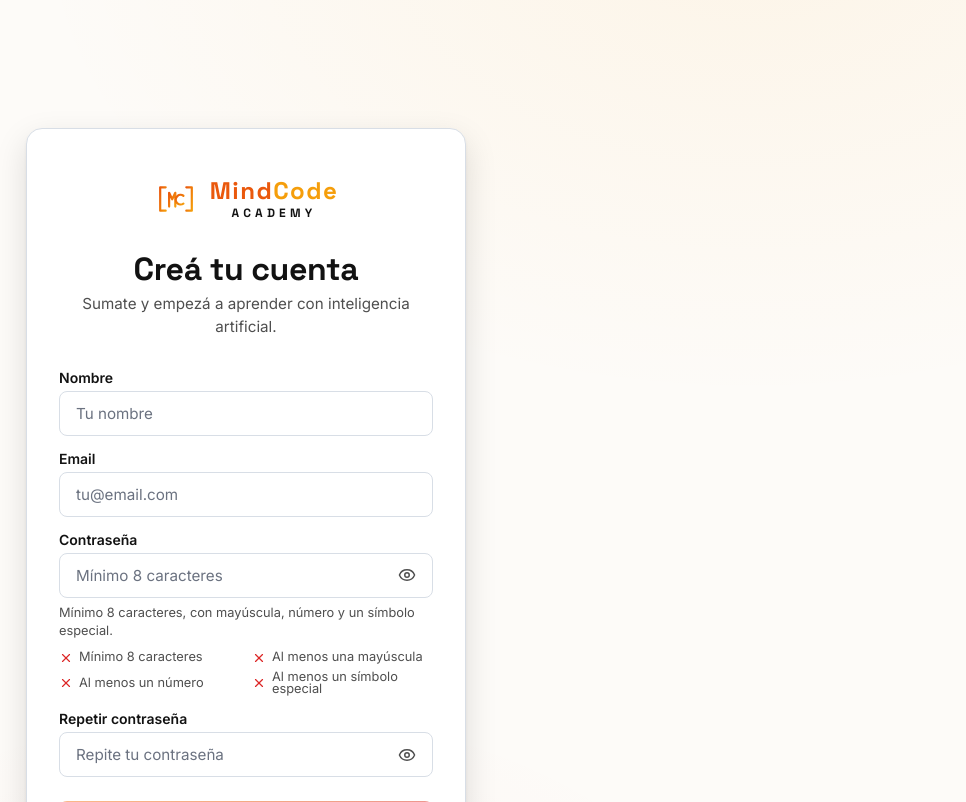
Scenario: RegisterPage › keeps the submit button disabled until the password is strong and confirmed
In the password field labelled "Contraseña": (246, 575) [59, 553, 433, 598], type "Abcdefg1!"
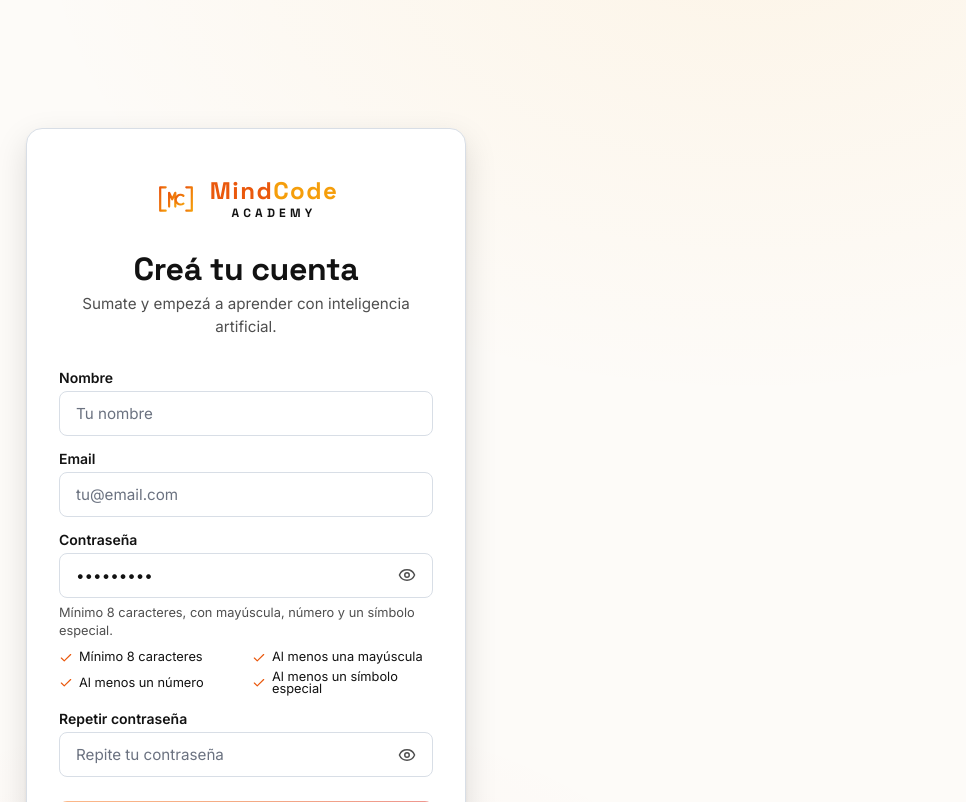
In the password field labelled "Repetir contraseña": (246, 755) [59, 732, 433, 777], type "Abcdefg1!"
(page scrolled)
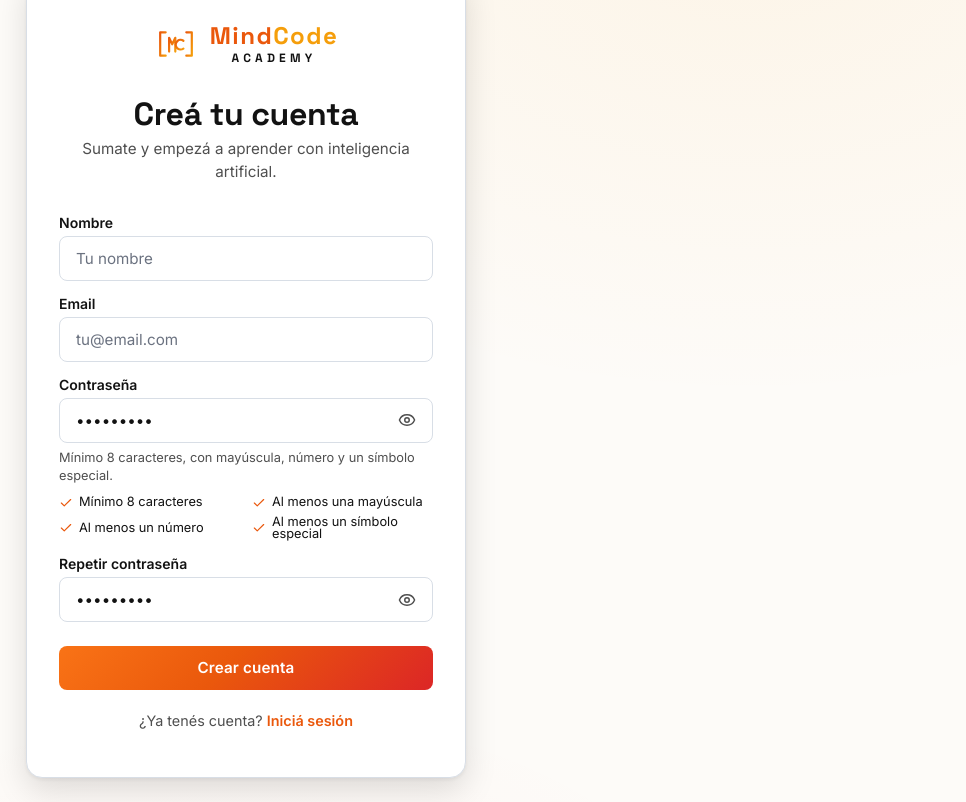
Result: the button "Crear cuenta" is enabled at [59, 646, 433, 690]
